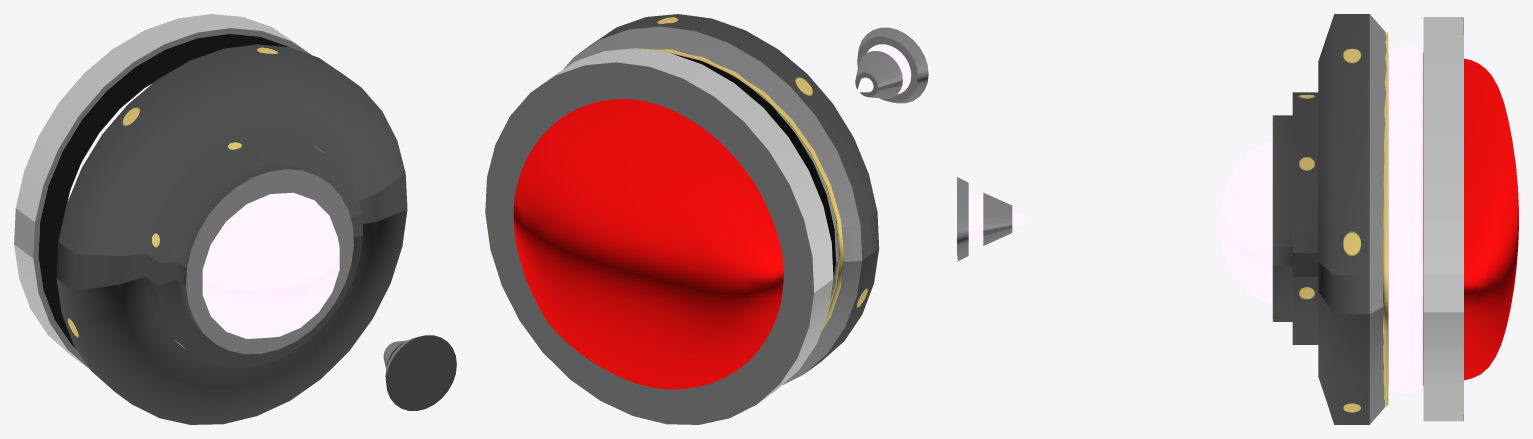
File: BP_stoolfloat_ low.fbx
The picture shows the model from 3 angles, left to right: view 1: azimuth 30°, elevation 25°; view 2: azimuth 150°, elevation 25°; view 3: azimuth 270°, elevation 25°; orthographic projection. The views are drawn at different scales.
Visible parts, largest first — view 1: Stool; view 2: Stool; view 3: Stool.
Part boxes in pixels (x1,y1,x2,y2): Stool: (14, 14, 456, 424); Stool: (485, 14, 928, 424); Stool: (957, 14, 1518, 424).
Size of the model in its own units: 45.35 by 46.56 by 63.4.
